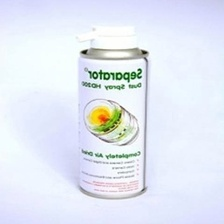aerosol_cans: (70, 22, 154, 203)
